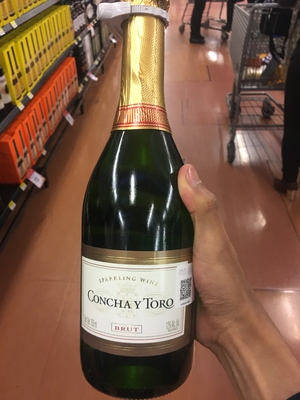brut: (68, 33, 208, 380)
